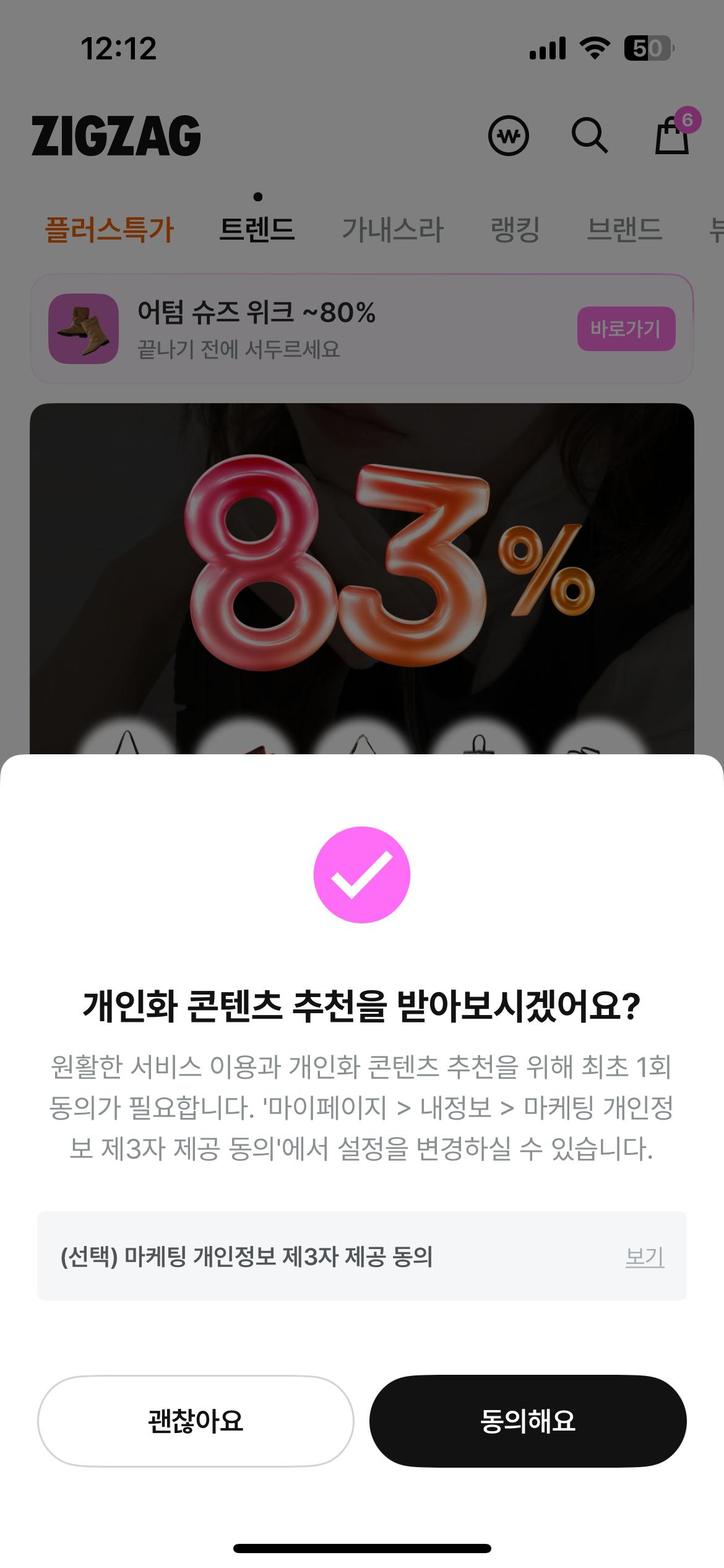button: (45, 211, 182, 246), (338, 213, 454, 250), (582, 310, 674, 351), (212, 208, 299, 246), (485, 206, 547, 250), (590, 206, 662, 242), (567, 116, 619, 163), (654, 109, 699, 163), (483, 114, 532, 153)
popup: (2, 747, 724, 1567)
